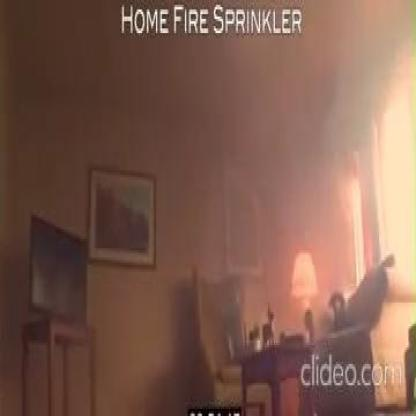fire: (336, 168, 360, 222)
